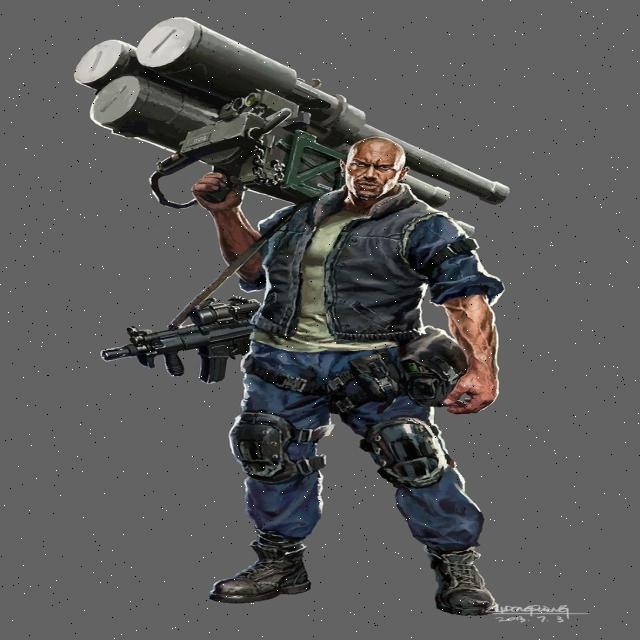bazooka: (68, 16, 530, 220)
